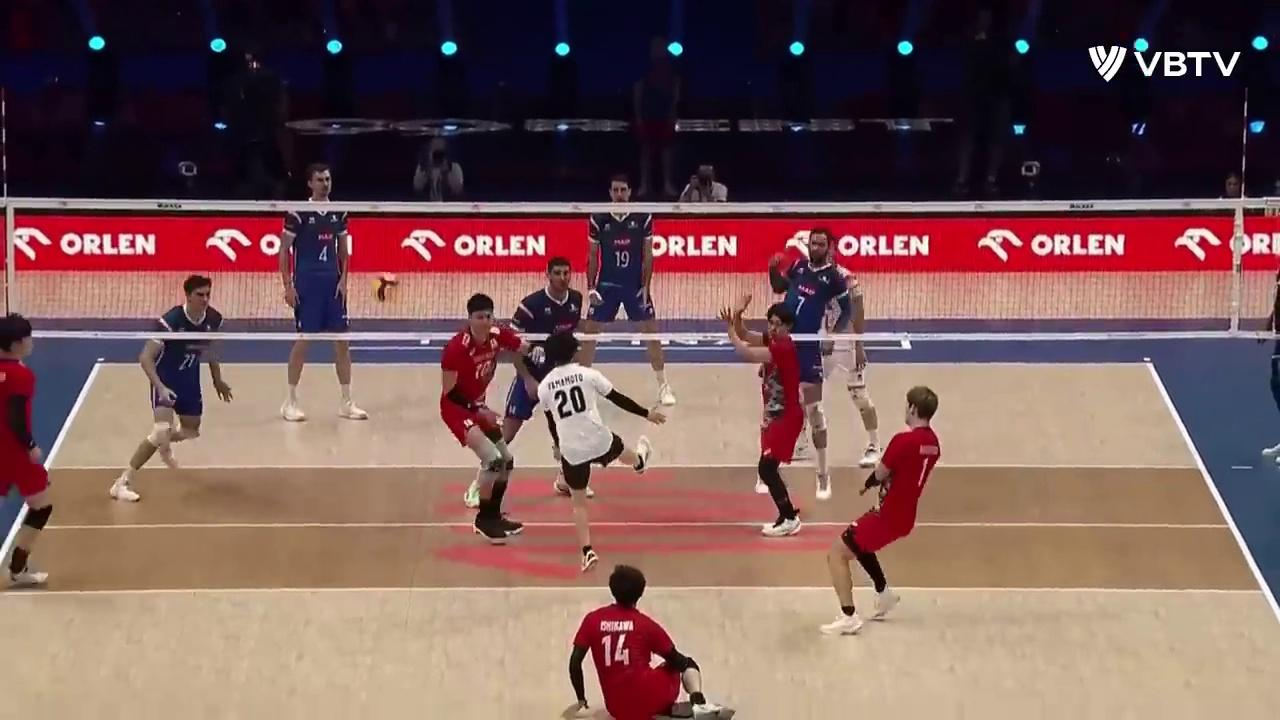ball: (370, 271, 400, 302)
